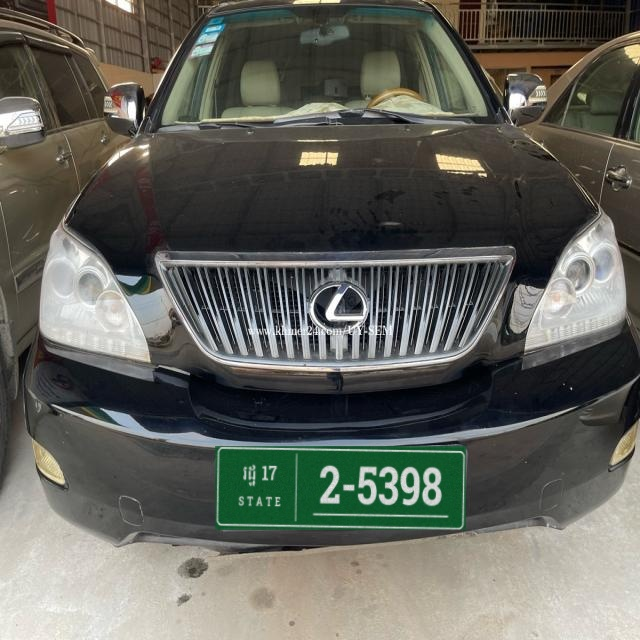Plate Number: (215, 446, 466, 530)
